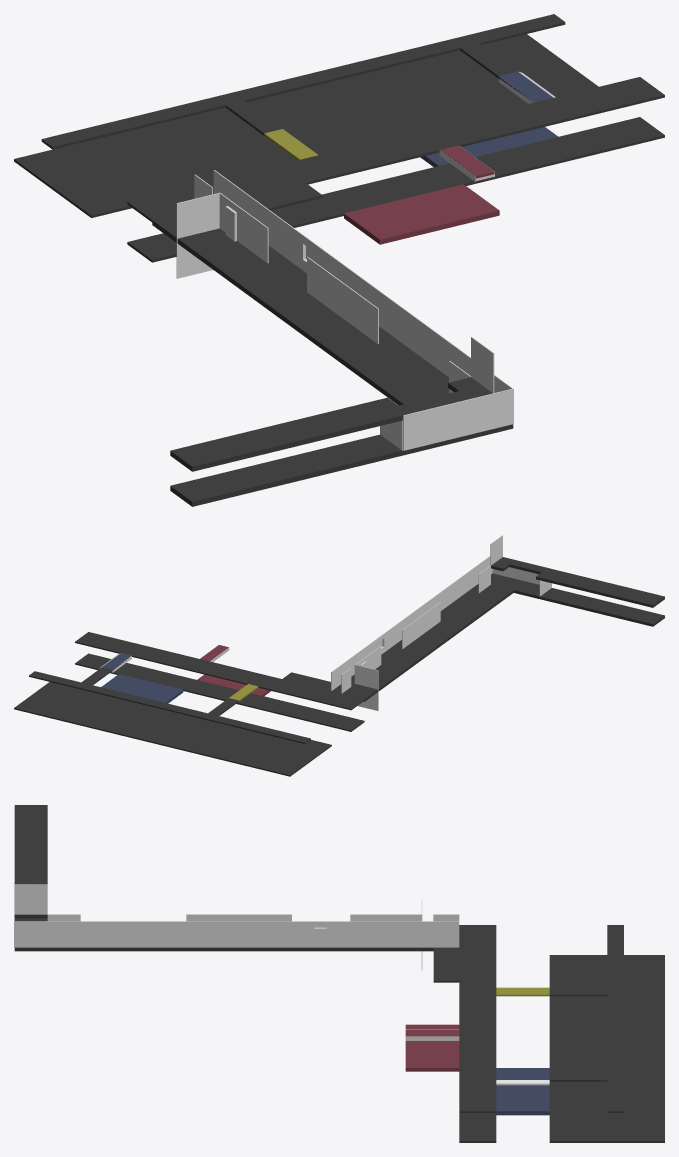
File: WallEntrance.fbx
The picture shows the model from 3 angles, top to bottom: view 1: azimuth 30°, elevation 25°; view 2: azimuth 150°, elevation 25°; view 3: azimuth 270°, elevation 25°; orthographic projection. The views are drawn at different scales.
Parts seen in each view (by area): view 1: FloorR6BlueSide, FloorR6Entrance, FloorR7Middle, FloorR6Middle, FloorR7Entrance, FloorR7Corridor, wall.023, wall.003, FloorR6Red, wall, wall.031, FloorR7YellowAisle (+4 smaller); view 2: FloorR6BlueSide, FloorR6Entrance, FloorR7Middle, FloorR6Middle, wall.023, FloorR7Entrance, FloorR7Corridor, wall.003, FloorR6Blue, wall.031, FloorR7BlueAisle, FloorR7YellowAisle (+2 smaller); view 3: FloorR6BlueSide, wall.023, FloorR7Middle, FloorR7Corridor, FloorR7Entrance, FloorR6Entrance, FloorR6Red, FloorR6Blue, wall.003, FloorR6Middle, FloorR7YellowAisle, wall.024 (+1 smaller).
Boxes of the visible parts, x1,y1,x2,y2 form: FloorR6BlueSide: [14, 34, 598, 217]; FloorR6Entrance: [152, 214, 513, 506]; FloorR7Middle: [127, 77, 664, 222]; FloorR6Middle: [127, 117, 664, 262]; FloorR7Entrance: [170, 377, 492, 471]; FloorR7Corridor: [41, 14, 565, 149]; wall.023: [213, 170, 512, 392]; wall.003: [194, 174, 470, 393]; FloorR6Red: [344, 184, 499, 244]; wall: [403, 388, 513, 450]; wall.031: [176, 192, 219, 278]; FloorR7YellowAisle: [225, 100, 318, 160]; FloorR6BlueSide: [14, 682, 331, 776]; FloorR6Entrance: [332, 573, 664, 701]; FloorR7Middle: [75, 632, 364, 710]; FloorR6Middle: [75, 653, 364, 731]; wall.023: [331, 556, 492, 690]; FloorR7Entrance: [491, 557, 664, 607]; FloorR7Corridor: [29, 671, 310, 743]; wall.003: [341, 565, 490, 693]; FloorR6Blue: [101, 674, 183, 703]; wall.031: [354, 665, 378, 710]; FloorR7BlueAisle: [81, 653, 131, 685]; FloorR7YellowAisle: [208, 684, 258, 715]; FloorR6BlueSide: [549, 955, 664, 1142]; wall.023: [14, 921, 459, 947]; FloorR7Middle: [433, 925, 496, 1112]; FloorR7Corridor: [607, 925, 623, 1112]; FloorR7Entrance: [14, 805, 47, 918]; FloorR6Entrance: [14, 918, 458, 951]; FloorR6Red: [405, 1024, 459, 1071]; FloorR6Blue: [496, 1068, 549, 1115]; wall.003: [47, 914, 459, 921]; FloorR6Middle: [459, 1113, 496, 1142]; FloorR7YellowAisle: [496, 987, 607, 996]; wall.024: [14, 884, 47, 914].
Size of the model in its own units: 16100 by 2400 by 15820.
